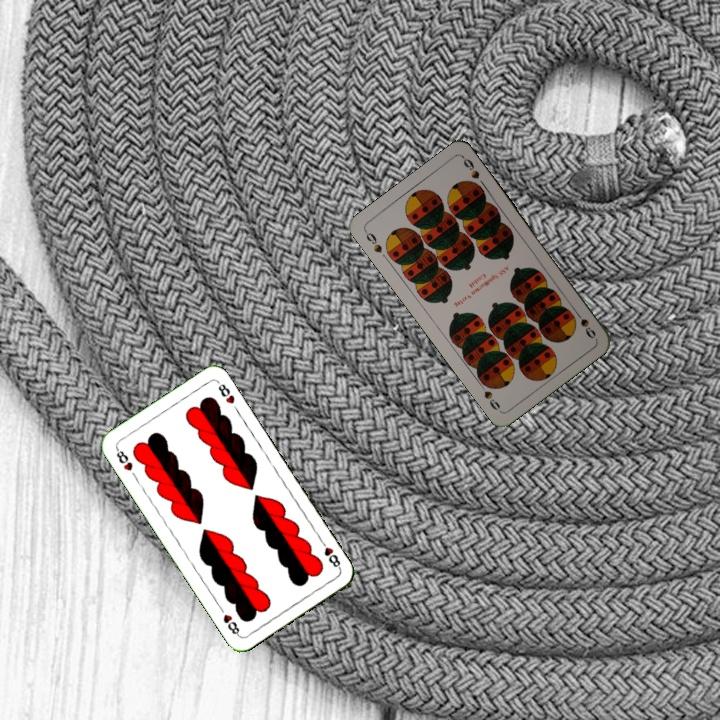H8: (316, 536, 343, 572), (112, 444, 135, 474)
S9: (570, 305, 599, 341), (361, 226, 385, 256)
